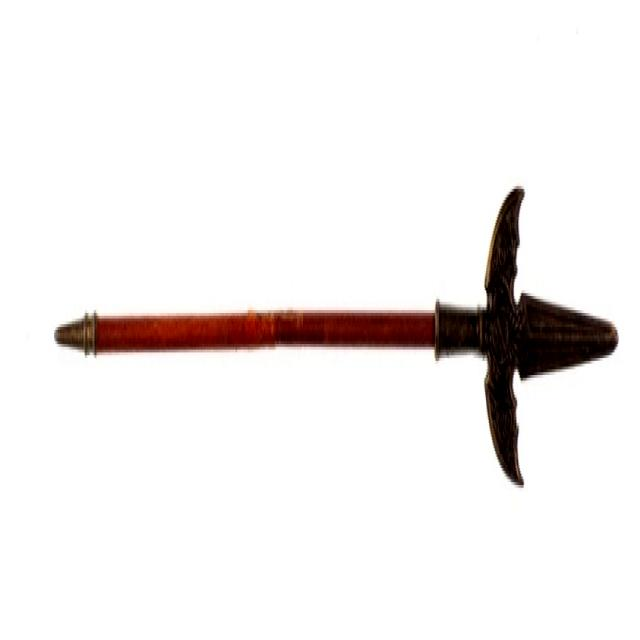spear: (44, 164, 628, 511)
